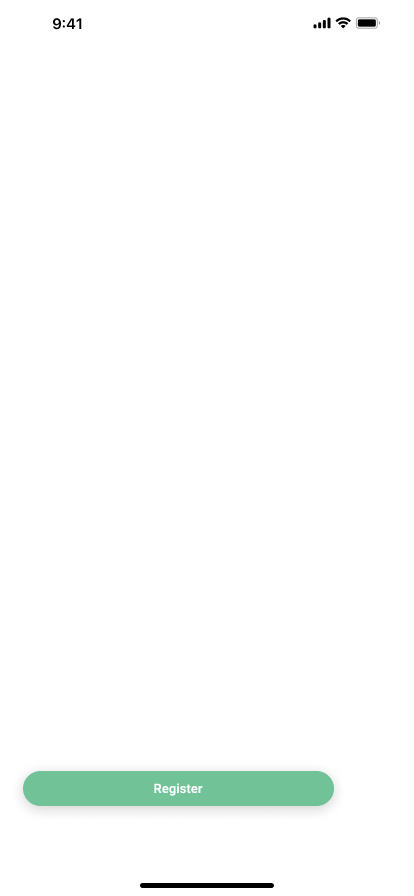Buttons: (8, 759, 349, 824)
Home Indicator: (0, 862, 414, 896)
Status Bar: (0, 0, 414, 44)
